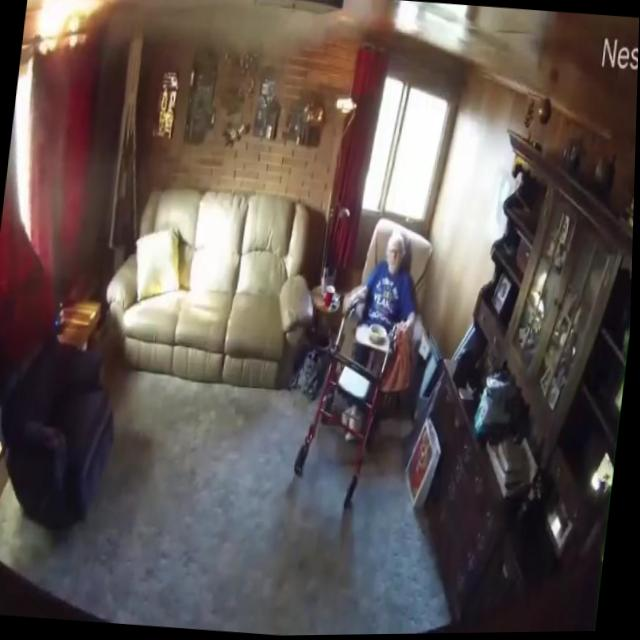fire: (35, 0, 106, 59)
